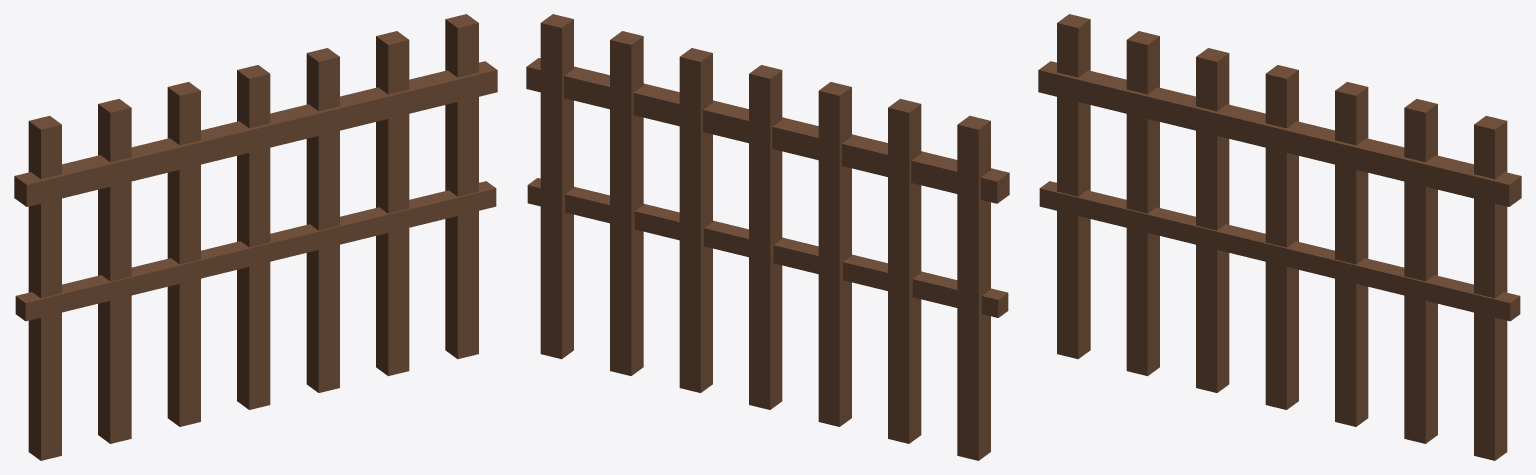
The model's file is component-fence-panel.meshopt.glb.
3 views of the same model, side by side, from view 1: azimuth 30°, elevation 25°; view 2: azimuth 150°, elevation 25°; view 3: azimuth 330°, elevation 25° (orthographic).
Parts seen in each view (by area): view 1: rail_top, rail_mid, vertical_slat_6, vertical_slat_2, vertical_slat_4, vertical_slat_7, vertical_slat_3, vertical_slat_5, vertical_slat_1; view 2: vertical_slat_7, vertical_slat_1, vertical_slat_5, vertical_slat_3, vertical_slat_4, vertical_slat_6, vertical_slat_2, rail_top, rail_mid; view 3: rail_top, rail_mid, vertical_slat_2, vertical_slat_4, vertical_slat_6, vertical_slat_1, vertical_slat_3, vertical_slat_5, vertical_slat_7.
Part boxes in pixels (box(x1,y1,x2,y2)): rail_top: box(14, 61, 497, 206); rail_mid: box(15, 181, 496, 321); vertical_slat_6: box(376, 31, 409, 376); vertical_slat_2: box(98, 99, 131, 443); vertical_slat_4: box(237, 65, 270, 409); vertical_slat_7: box(445, 14, 478, 359); vertical_slat_3: box(167, 82, 200, 426); vertical_slat_5: box(306, 48, 339, 392); vertical_slat_1: box(28, 115, 61, 460); vertical_slat_7: box(540, 14, 573, 359); vertical_slat_1: box(957, 115, 990, 460); vertical_slat_5: box(679, 48, 712, 392); vertical_slat_3: box(818, 82, 851, 426); vertical_slat_4: box(749, 65, 782, 409); vertical_slat_6: box(610, 31, 643, 375); vertical_slat_2: box(888, 98, 921, 443); rail_top: box(526, 58, 1009, 203); rail_mid: box(527, 178, 1008, 317); rail_top: box(1038, 61, 1521, 206); rail_mid: box(1039, 181, 1520, 321); vertical_slat_2: box(1126, 31, 1159, 376); vertical_slat_4: box(1265, 65, 1298, 409); vertical_slat_6: box(1404, 99, 1437, 443); vertical_slat_1: box(1057, 14, 1090, 359); vertical_slat_3: box(1196, 48, 1229, 392); vertical_slat_5: box(1335, 82, 1368, 426); vertical_slat_7: box(1474, 115, 1507, 460).
Size of the model in its own units: 1.22 by 0.82 by 0.065.
